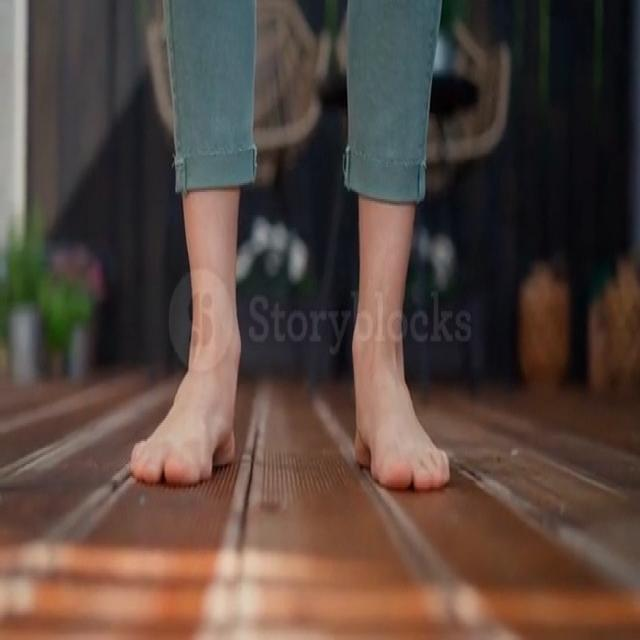No_Shoe: (345, 324, 447, 497), (138, 330, 236, 484)
